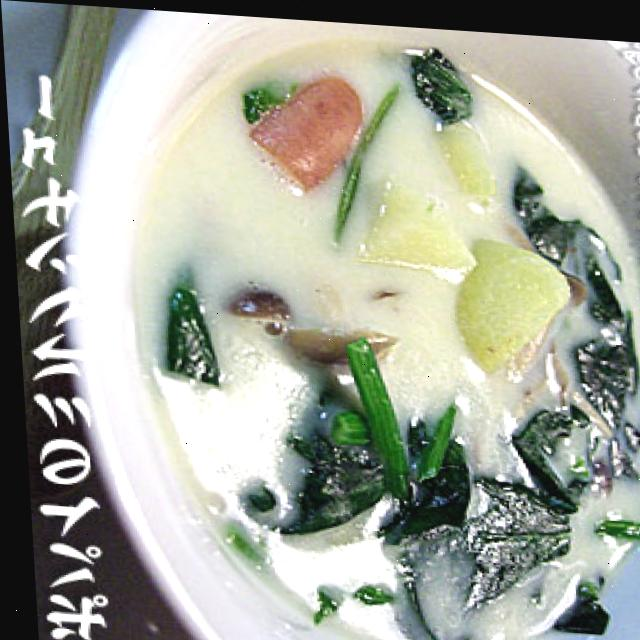汤锅炖物: (82, 4, 640, 640)
